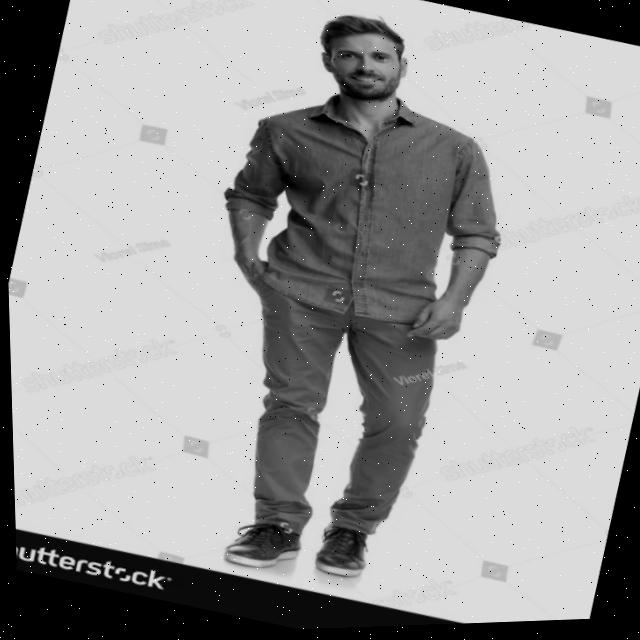Upper-Body: (229, 97, 496, 326)
